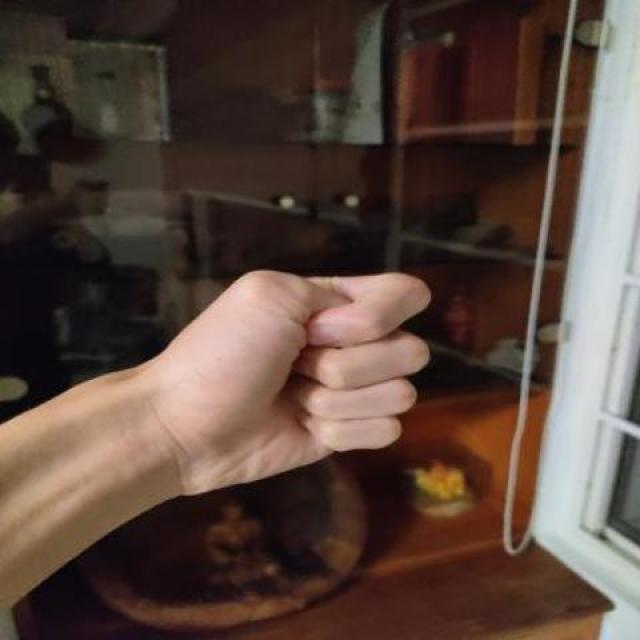Closed Hand: (126, 268, 438, 495)
